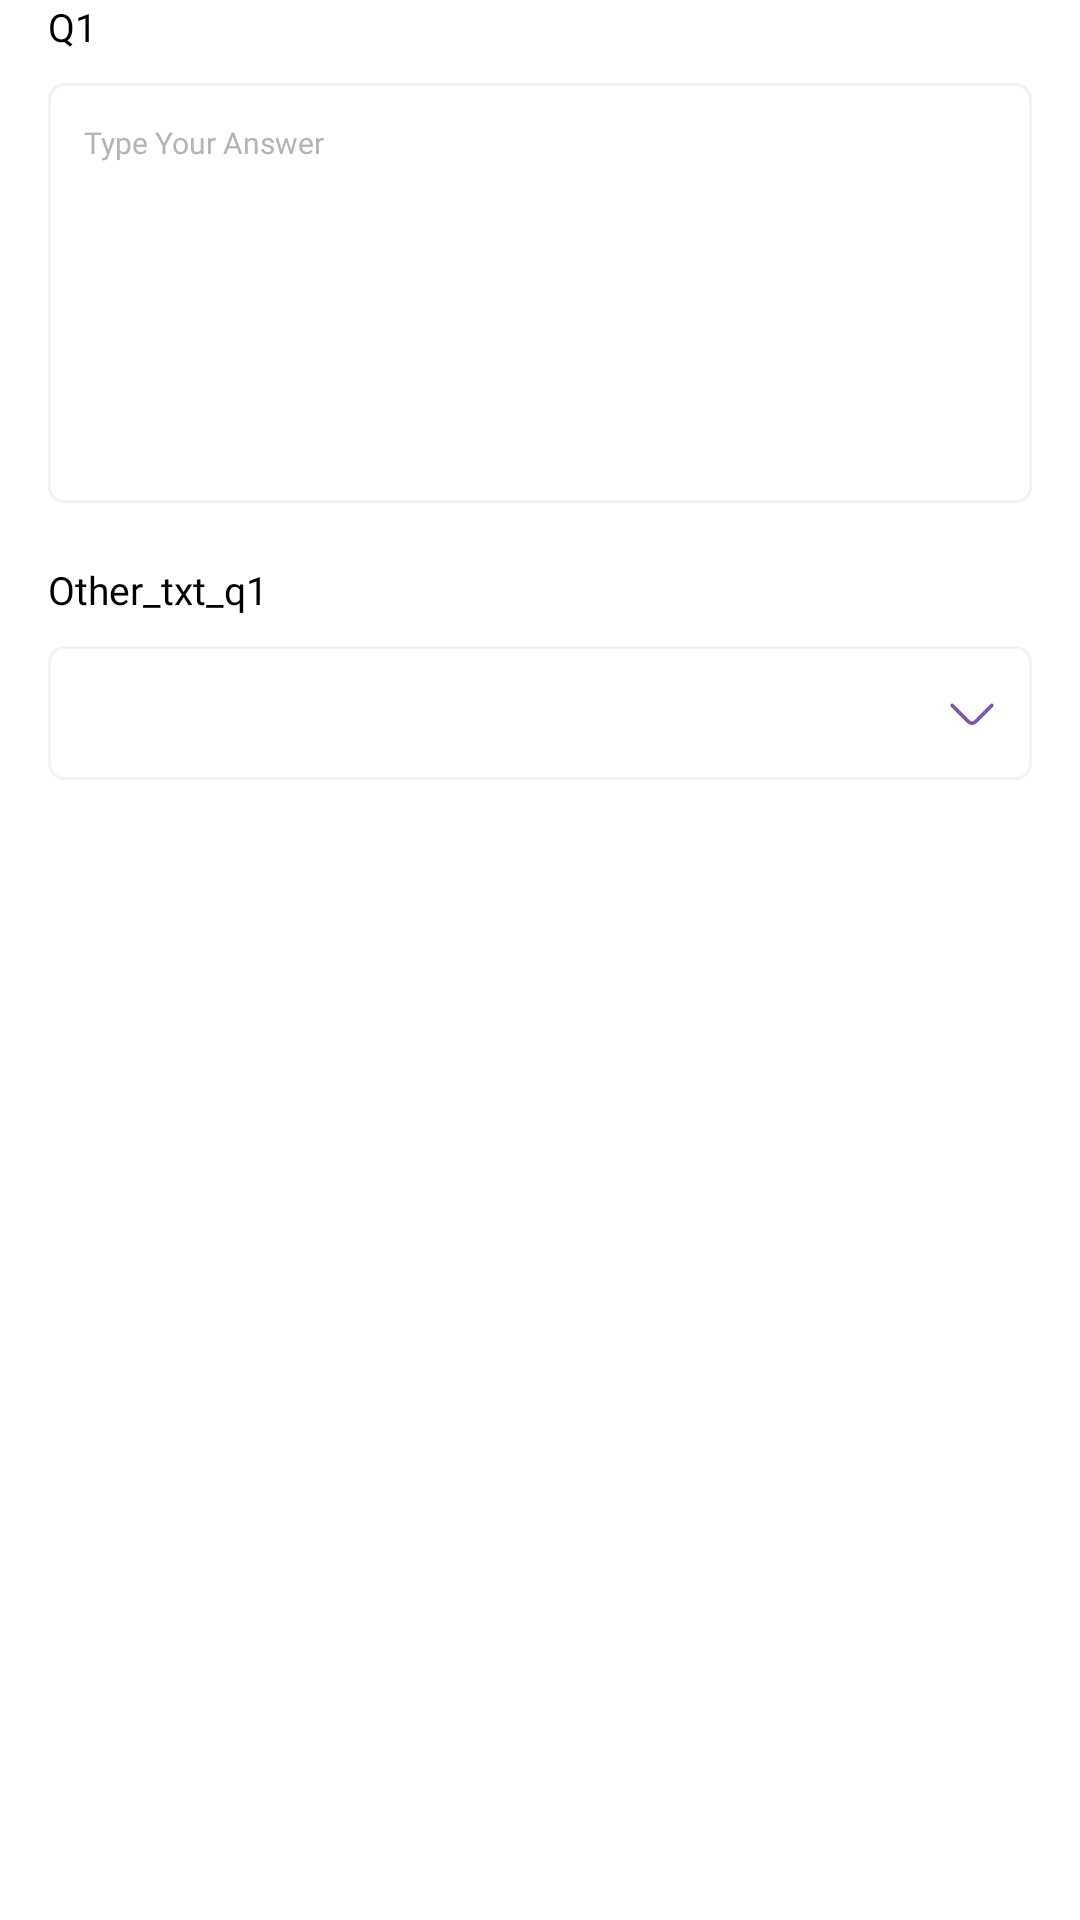

Locate icon controls on the screen. Image size 1080w x 1920h, boxes as (x1, y1, x2, y2).
arrow down: (950, 703, 994, 725)
